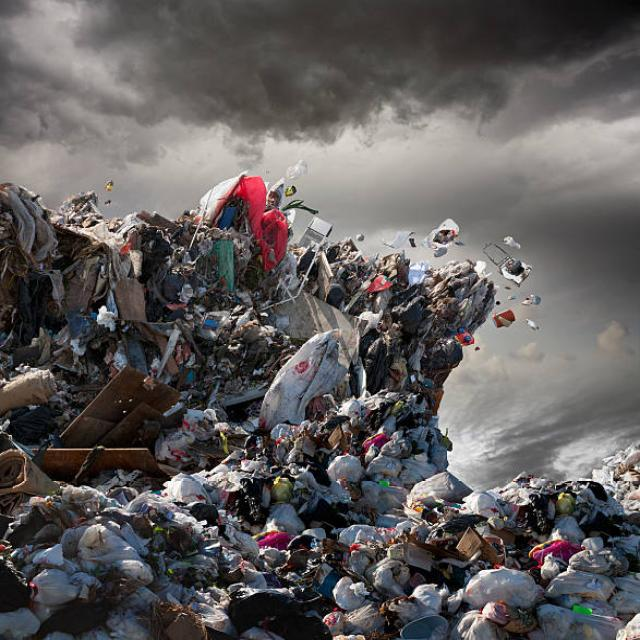trash: (6, 232, 517, 614), (531, 473, 633, 614)
